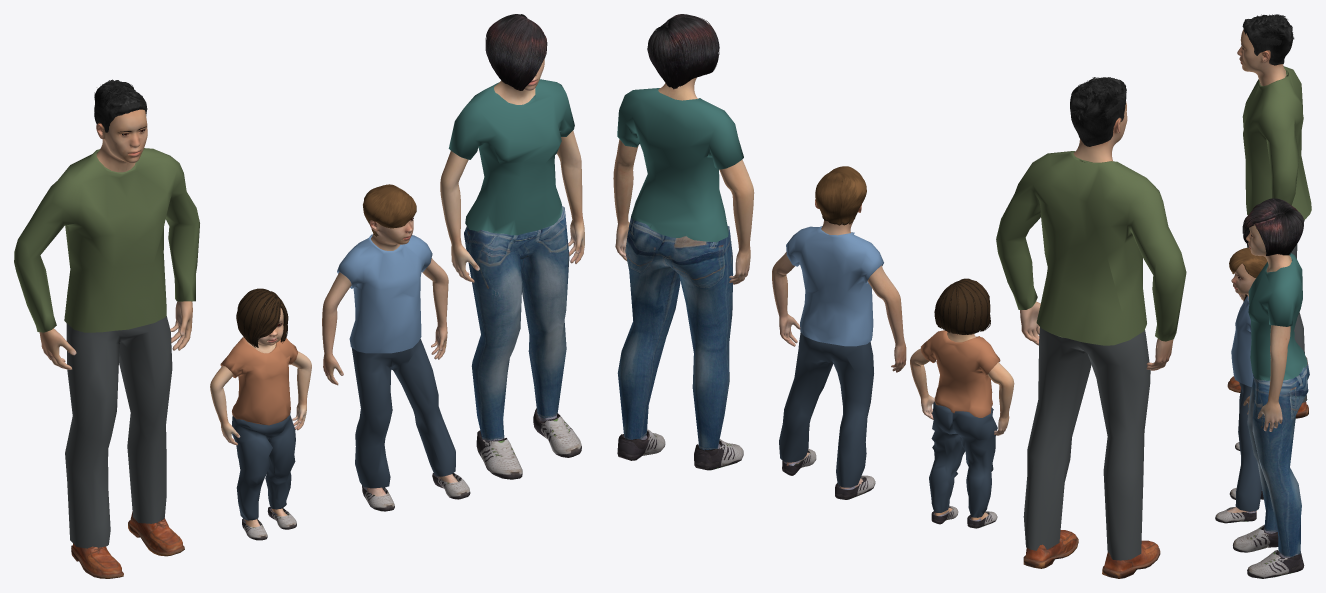
Rendered from sam-mina-eli-and-riley-3d-person-family-of-four.glb.
The picture shows the model from 3 angles, left to right: view 1: azimuth 30°, elevation 25°; view 2: azimuth 150°, elevation 25°; view 3: azimuth 270°, elevation 25°; orthographic projection. The views are drawn at different scales.
Parts seen in each view (by area): view 1: male_casualsuit02, female_casualsuit01.001, male_casualsuit04, female_casualsuit01, Riley | anatomical body, Eli | anatomical body, Sam | anatomical body, bob01, shoes05.002, Mina | anatomical body, shoes01, bob02 (+3 smaller); view 2: male_casualsuit02, female_casualsuit01.001, male_casualsuit04, female_casualsuit01, Riley | anatomical body, bob01, Eli | anatomical body, short01, bob02, short03, shoes01, Mina | anatomical body (+3 smaller); view 3: female_casualsuit01.001, male_casualsuit02, male_casualsuit04, Riley | anatomical body, bob01, shoes05.002, short01, Sam | anatomical body, short03, Eli | anatomical body, shoes05.001, shoes01.
Boxes of the visible parts, x1,y1,x2,y2 form: male_casualsuit02: (14, 148, 199, 548); female_casualsuit01.001: (448, 79, 574, 440); male_casualsuit04: (337, 234, 455, 488); female_casualsuit01: (220, 337, 298, 520); Riley | anatomical body: (440, 59, 584, 282); Eli | anatomical body: (322, 218, 457, 496); Sam | anatomical body: (39, 109, 192, 369); bob01: (485, 14, 547, 90); shoes05.002: (476, 408, 581, 479); Mina | anatomical body: (210, 308, 311, 527); shoes01: (71, 511, 184, 578); bob02: (236, 288, 288, 347); male_casualsuit02: (996, 151, 1186, 560); female_casualsuit01.001: (617, 88, 743, 450); male_casualsuit04: (779, 226, 883, 487); female_casualsuit01: (921, 330, 1000, 517); Riley | anatomical body: (613, 77, 754, 284); bob01: (647, 14, 719, 89); Eli | anatomical body: (772, 199, 906, 488); short01: (1070, 77, 1126, 146); bob02: (934, 278, 990, 334); short03: (815, 166, 866, 225); shoes01: (1023, 530, 1160, 578); Mina | anatomical body: (910, 332, 1014, 520); female_casualsuit01.001: (1247, 253, 1309, 557); male_casualsuit02: (1242, 66, 1311, 402); male_casualsuit04: (1231, 296, 1262, 511); Riley | anatomical body: (1246, 225, 1291, 431); bob01: (1242, 198, 1303, 255); shoes05.002: (1233, 525, 1304, 578); short01: (1242, 14, 1294, 65); Sam | anatomical body: (1237, 29, 1286, 85); short03: (1229, 247, 1267, 277); Eli | anatomical body: (1227, 263, 1256, 512); shoes05.001: (1215, 488, 1263, 523); shoes01: (1227, 376, 1308, 418).
Size of the model in its own units: 2.23 by 1.79 by 0.4092.
Materials: 37 (36 with a texture image).
